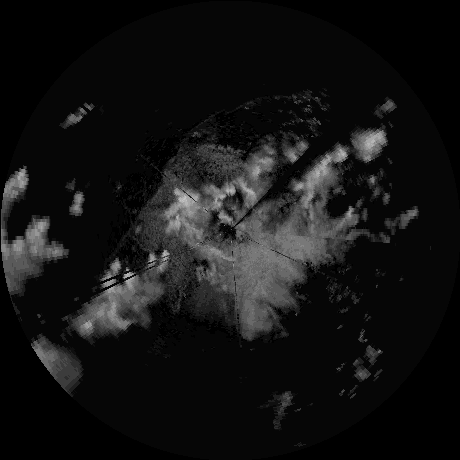frontgust: (182, 91, 326, 140)
